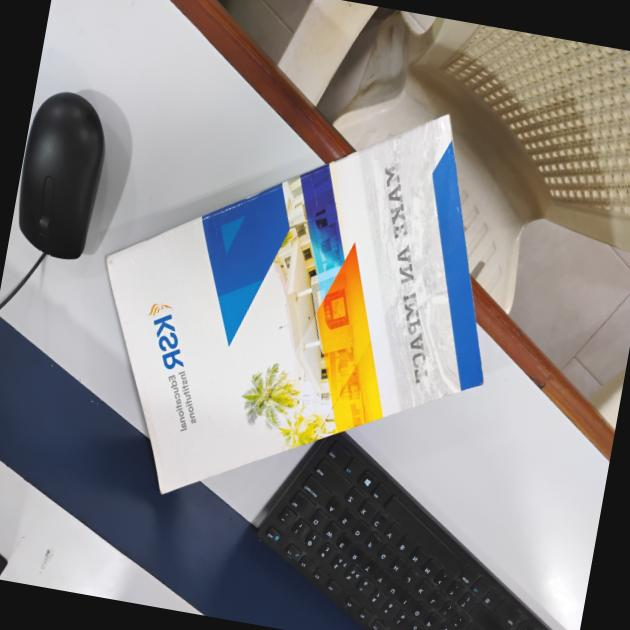keyboard: (243, 443, 589, 630)
mouse: (7, 68, 126, 280)
notebook: (92, 101, 487, 507)
